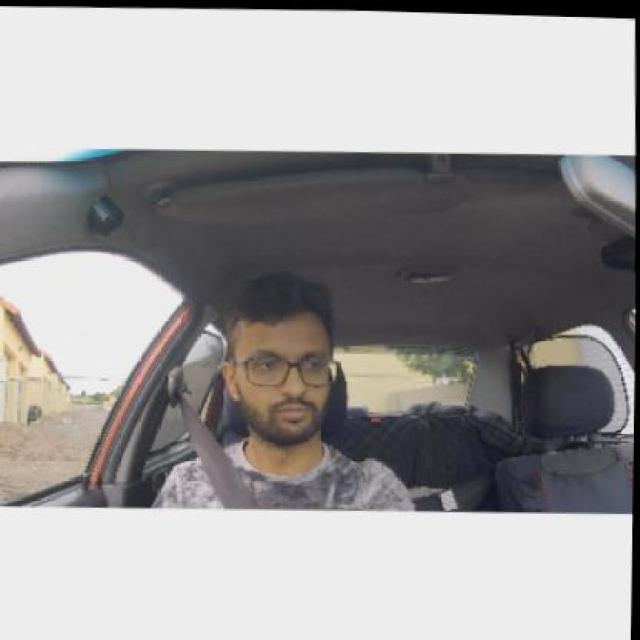person: (217, 289, 345, 462)
